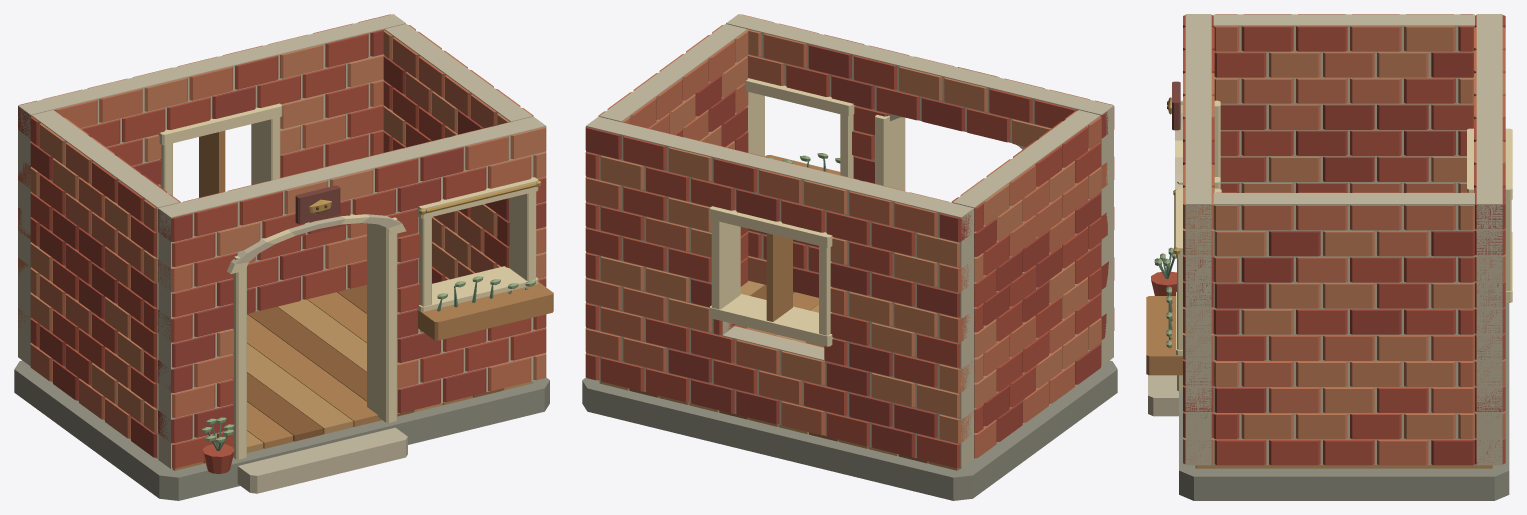
File: brick_base.glb
3 renders of one model, left to right at view 1: azimuth 30°, elevation 25°; view 2: azimuth 150°, elevation 25°; view 3: azimuth 270°, elevation 25°, orthographic. The views are drawn at different scales.
Visible parts, largest first — view 1: brick_base; view 2: brick_base; view 3: brick_base.
Boxes of the visible parts, x1,y1,x2,y2 form: brick_base: (14,14,553,500); brick_base: (582,14,1117,500); brick_base: (1146,14,1512,500).
Size of the model in its own units: 0.666 by 0.46 by 0.521.
